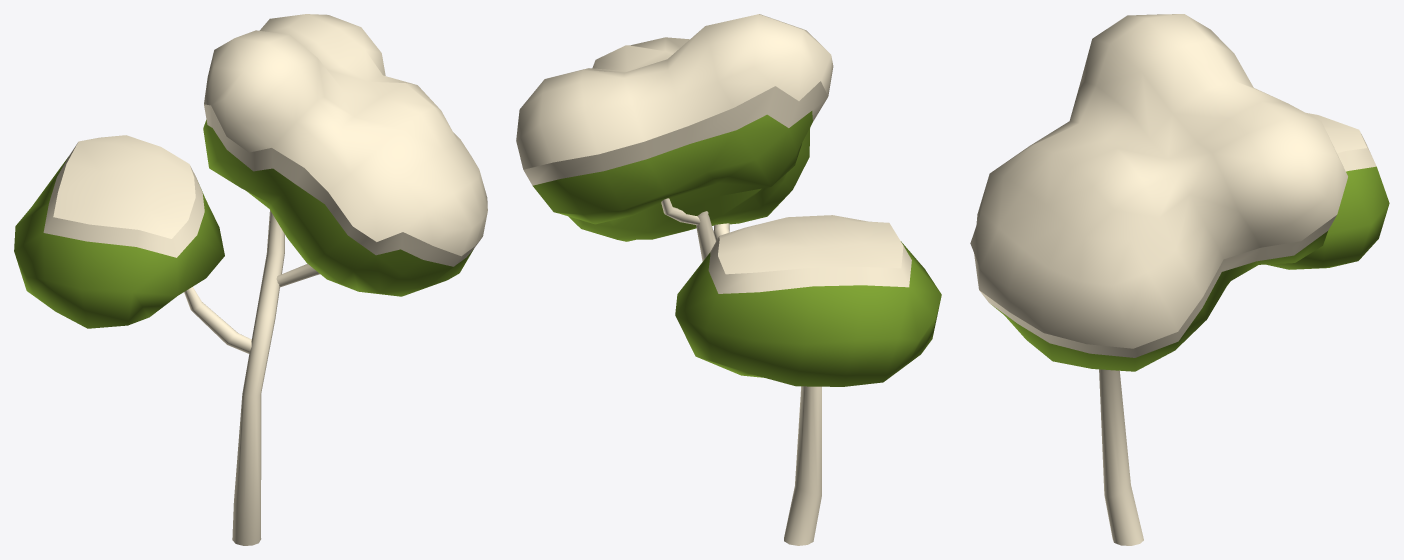
File: Tree_18_Winter.fbx
3 views of the same model, side by side, from view 1: azimuth 30°, elevation 25°; view 2: azimuth 150°, elevation 25°; view 3: azimuth 270°, elevation 25° (orthographic). The views are drawn at different scales.
Visible parts, largest first — view 1: Tree_18_p2_Winter, Tree_18_p1_Winter; view 2: Tree_18_p2_Winter, Tree_18_p1_Winter; view 3: Tree_18_p2_Winter, Tree_18_p1_Winter.
Part boxes in pixels (x1=…): Tree_18_p2_Winter: x1=14, y1=14, x2=487, y2=328; Tree_18_p1_Winter: x1=184, y1=210, x2=319, y2=545; Tree_18_p2_Winter: x1=516, y1=14, x2=941, y2=386; Tree_18_p1_Winter: x1=661, y1=198, x2=821, y2=545; Tree_18_p2_Winter: x1=970, y1=14, x2=1389, y2=371; Tree_18_p1_Winter: x1=1099, y1=369, x2=1143, y2=545.
Bounding box in the file's own units: 479 × 566 × 401.
